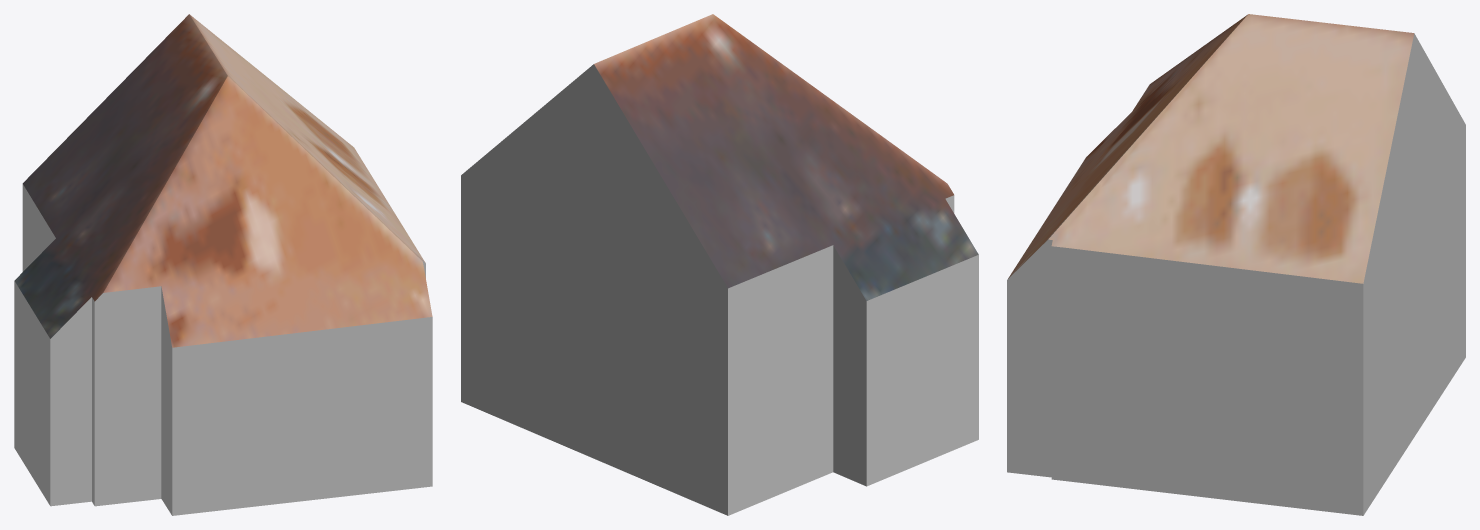
File: DEBW_0010007Txj5.gltf
3 views of the same model, side by side, from view 1: azimuth 30°, elevation 25°; view 2: azimuth 150°, elevation 25°; view 3: azimuth 270°, elevation 25° (orthographic). The views are drawn at different scales.
Parts seen in each view (by area): view 1: Z_UP; view 2: Z_UP; view 3: Z_UP.
Boxes of the visible parts, bbox=[...] form: Z_UP: bbox=[14, 14, 432, 515]; Z_UP: bbox=[461, 14, 978, 515]; Z_UP: bbox=[1007, 14, 1465, 515].
Size of the model in its own units: 15.57 by 13.75 by 14.15.
2 materials, 1 textured.
